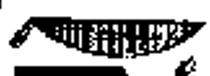Basket: (6, 13, 206, 62)
